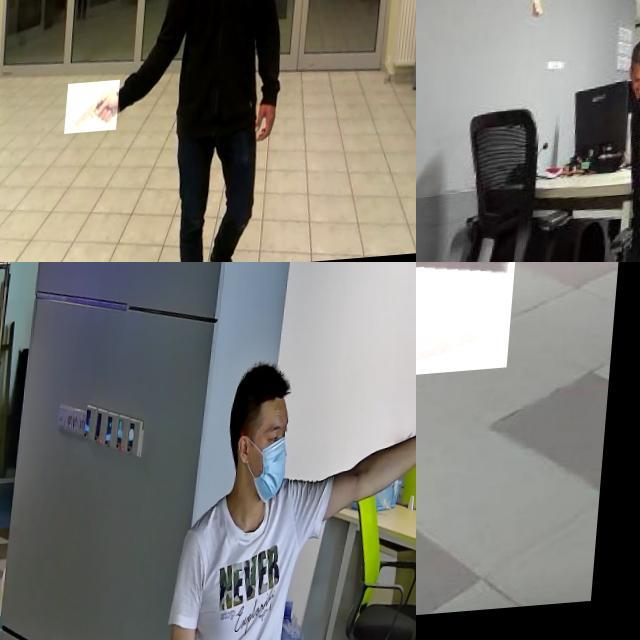-: (416, 262, 565, 395), (416, 96, 429, 190)
gun-knife-thesis - v11 Yolov5 augmented: (72, 85, 128, 138)
